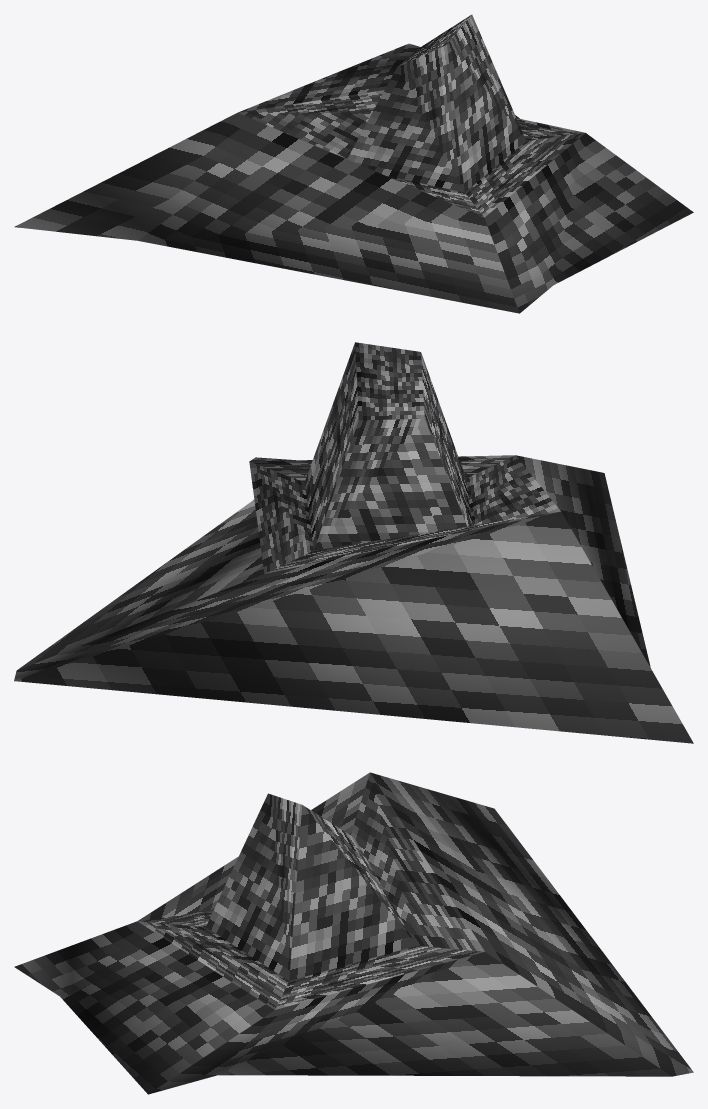
File: dome1_col.obj
3 renders of one model, top to bottom at view 1: azimuth 30°, elevation 25°; view 2: azimuth 150°, elevation 25°; view 3: azimuth 270°, elevation 25°, orthographic. The views are drawn at different scales.
Visible parts, largest first — view 1: Cube; view 2: Cube; view 3: Cube.
Part boxes in pixels (x1=…): Cube: x1=14, y1=14, x2=693, y2=313; Cube: x1=14, y1=342, x2=693, y2=743; Cube: x1=14, y1=772, x2=693, y2=1094.
Size of the model in its own units: 2.08 by 0.6997 by 2.09.
Materials: 1 (1 with a texture image).
